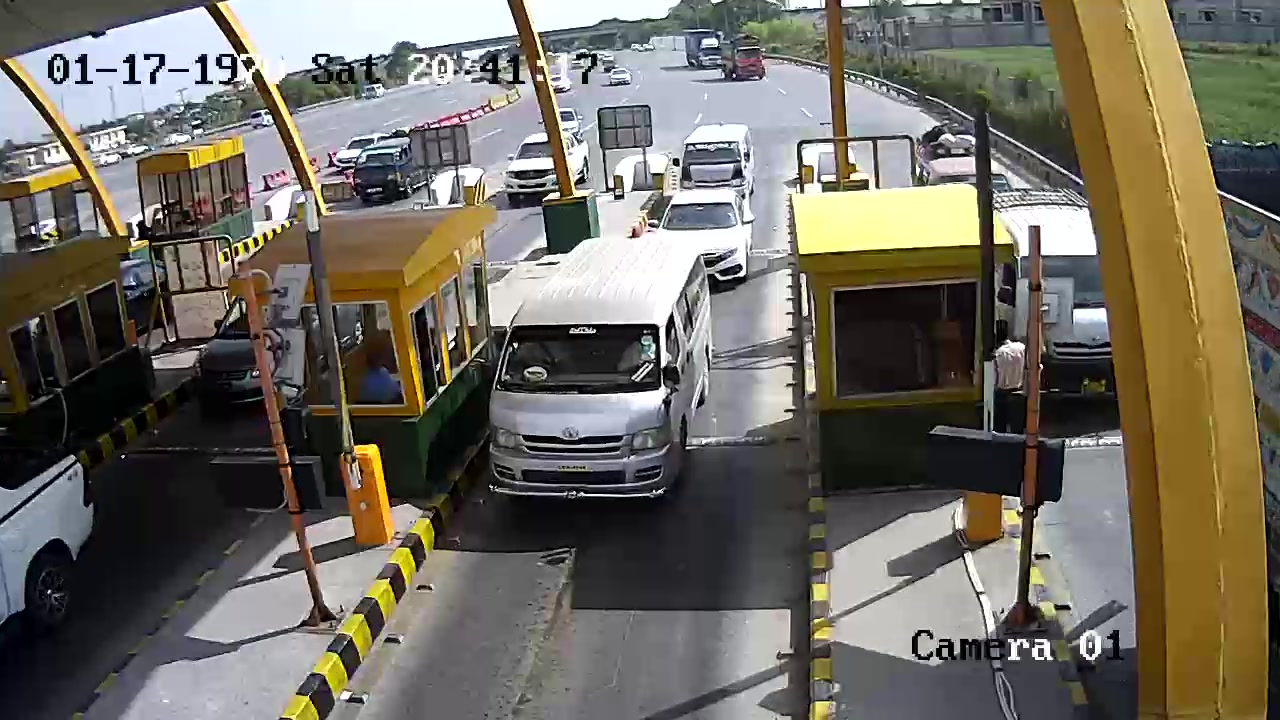F3: (485, 226, 719, 530)
